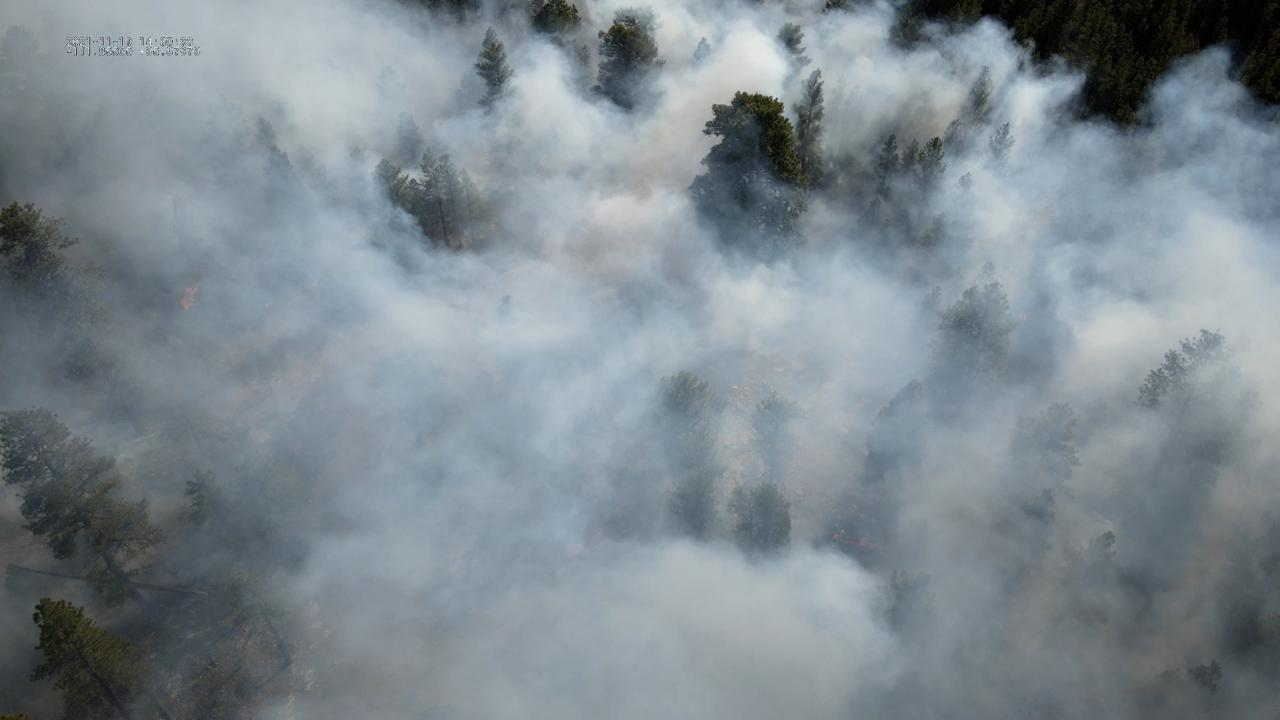fire: (177, 282, 201, 313)
smoke: (0, 0, 1280, 720)
